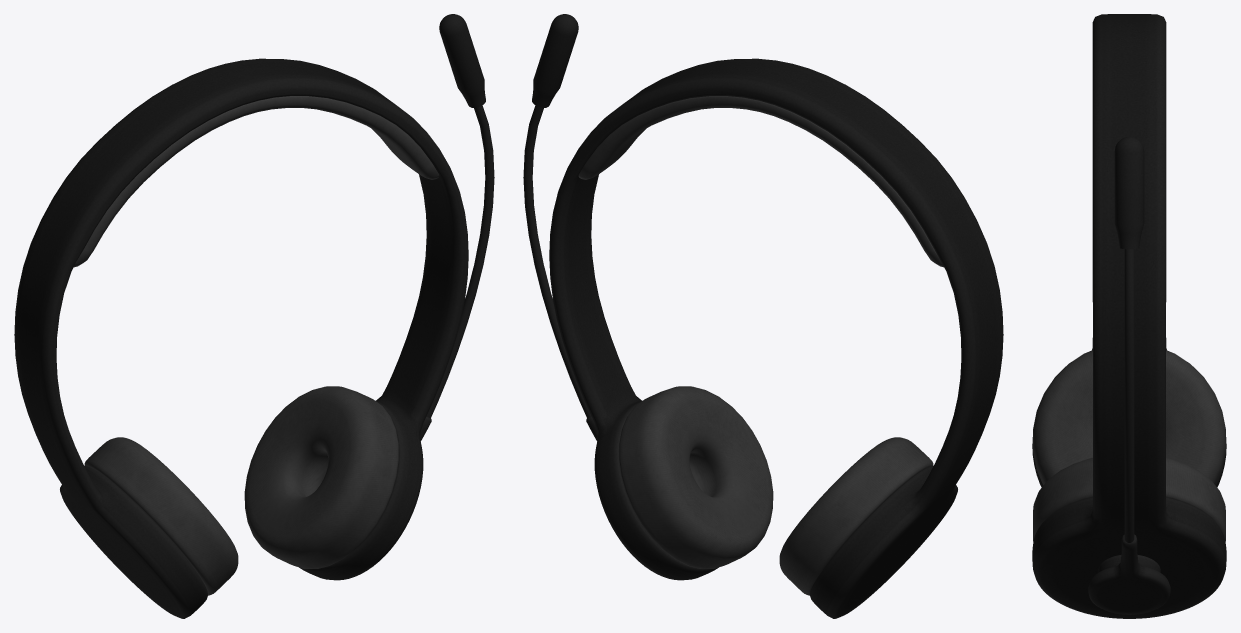
File: headphones.glb
3 views of the same model, side by side, from view 1: azimuth 30°, elevation 25°; view 2: azimuth 150°, elevation 25°; view 3: azimuth 270°, elevation 25° (orthographic). The views are drawn at different scales.
Visible parts, largest first — view 1: Object_2; view 2: Object_2; view 3: Object_2.
Part boxes in pixels (x1,y1,x2,y2): Object_2: (14,14,494,618); Object_2: (523,14,1003,618); Object_2: (1032,14,1226,618).
Size of the model in its own units: 4.23 by 4.57 by 1.46.
1 material, 1 textured.
